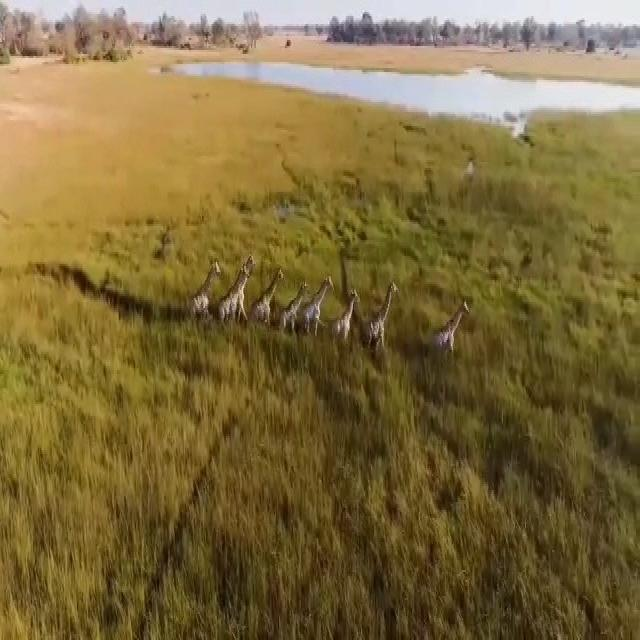Girraffe: (221, 249, 256, 335), (428, 296, 470, 365), (183, 256, 222, 323), (365, 285, 396, 358), (280, 270, 306, 348), (253, 264, 282, 333), (332, 282, 361, 350), (307, 268, 330, 346)
